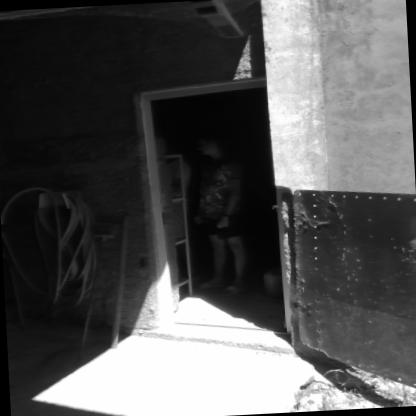open: (132, 73, 288, 349)
